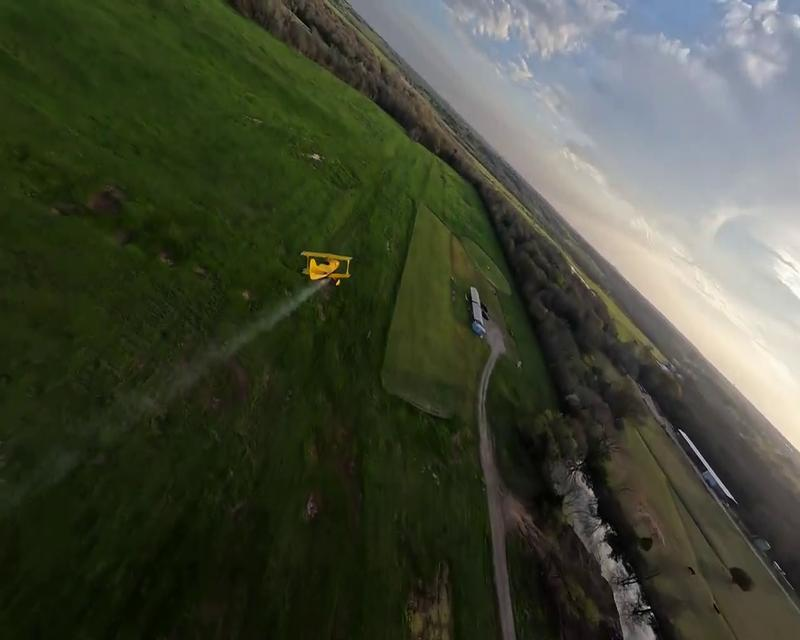UAV: (299, 249, 353, 287)
